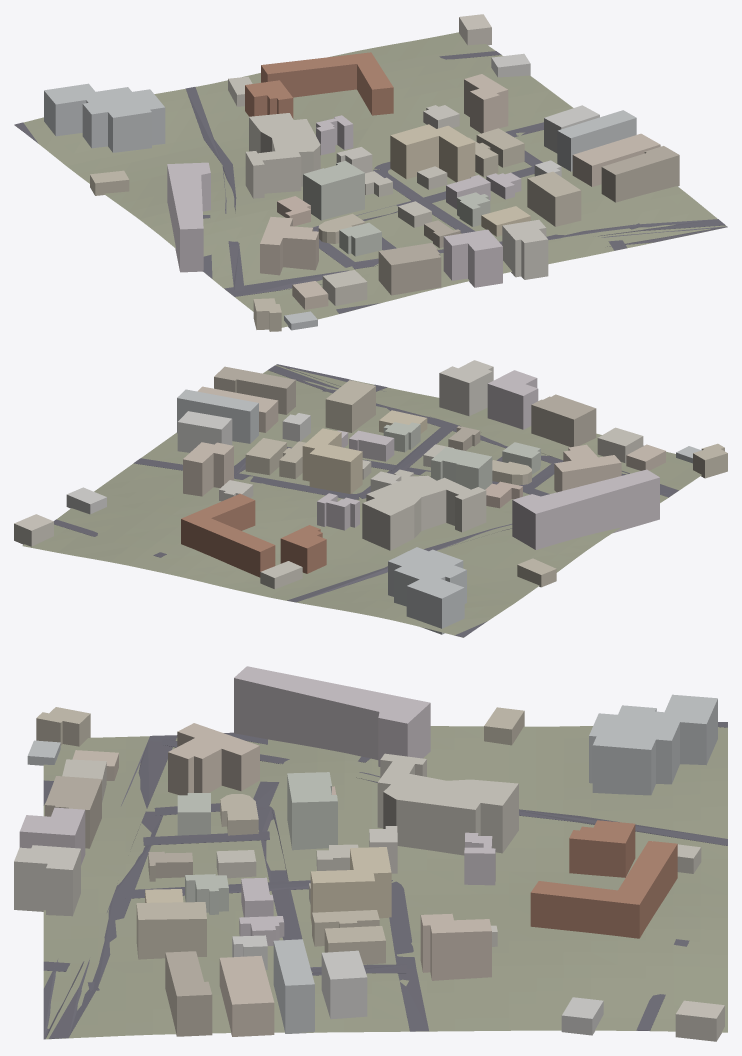
Rendered from chunk_1_3.glb.
3 views of the same model, one above another, from view 1: azimuth 30°, elevation 25°; view 2: azimuth 150°, elevation 25°; view 3: azimuth 270°, elevation 25° (orthographic). The views are drawn at different scales.
Parts seen in each view (by area): view 1: geometry_42, geometry_38, geometry_3, geometry_35, geometry_17, geometry_32, geometry_21, geometry_15, geometry_22, geometry_29, geometry_33, geometry_14 (+33 smaller); view 2: geometry_42, geometry_17, geometry_3, geometry_38, geometry_35, geometry_32, geometry_29, geometry_15, geometry_24, geometry_14, geometry_31, geometry_33 (+30 smaller); view 3: geometry_42, geometry_17, geometry_3, geometry_38, geometry_35, geometry_33, geometry_32, geometry_31, geometry_24, geometry_5, geometry_37, geometry_22 (+37 smaller).
Boxes of the visible parts, left/top/right/bottom form: geometry_42: left=16, top=32, right=726, bottom=327; geometry_38: left=44, top=83, right=165, bottom=152; geometry_3: left=245, top=113, right=320, bottom=198; geometry_35: left=261, top=52, right=393, bottom=115; geometry_17: left=167, top=162, right=210, bottom=272; geometry_32: left=390, top=124, right=475, bottom=182; geometry_21: left=601, top=146, right=679, bottom=202; geometry_15: left=443, top=229, right=502, bottom=287; geometry_22: left=303, top=160, right=364, bottom=220; geometry_29: left=378, top=243, right=441, bottom=295; geometry_33: left=260, top=217, right=318, bottom=275; geometry_14: left=557, top=110, right=636, bottom=171; geometry_42: left=22, top=365, right=701, bottom=637; geometry_17: left=512, top=469, right=659, bottom=549; geometry_3: left=362, top=475, right=486, bottom=550; geometry_38: left=388, top=547, right=466, bottom=634; geometry_35: left=181, top=493, right=275, bottom=577; geometry_32: left=302, top=428, right=362, bottom=493; geometry_29: left=531, top=394, right=596, bottom=447; geometry_15: left=487, top=370, right=538, bottom=429; geometry_24: left=439, top=360, right=493, bottom=416; geometry_14: left=177, top=389, right=258, bottom=443; geometry_31: left=183, top=442, right=233, bottom=496; geometry_33: left=554, top=444, right=621, bottom=492; geometry_42: left=43, top=726, right=727, bottom=1039; geometry_17: left=234, top=666, right=430, bottom=766; geometry_3: left=377, top=753, right=518, bottom=855; geometry_38: left=589, top=694, right=717, bottom=795; geometry_35: left=530, top=841, right=677, bottom=938; geometry_33: left=168, top=723, right=259, bottom=795; geometry_32: left=310, top=847, right=391, bottom=924; geometry_31: left=420, top=913, right=491, bottom=980; geometry_24: left=14, top=845, right=80, bottom=916; geometry_5: left=219, top=955, right=274, bottom=1036; geometry_37: left=136, top=902, right=206, bottom=959; geometry_22: left=287, top=772, right=337, bottom=850.
Bounding box in the file's own units: 267 × 29.38 × 261.
